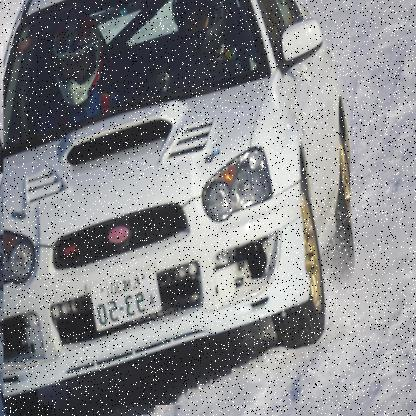Car: (2, 0, 351, 407)
